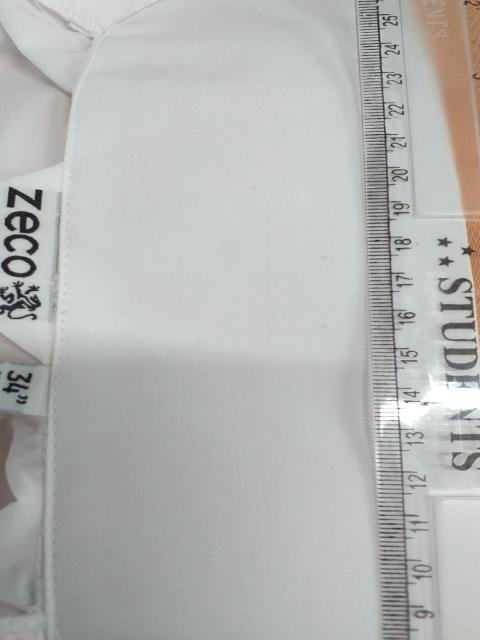Dirty_mark: (0, 574, 49, 625), (48, 191, 65, 328), (20, 413, 45, 466)
